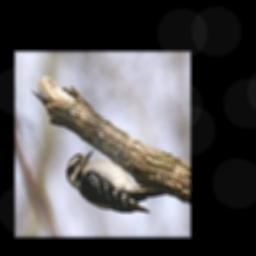Woodpecker: (60, 147, 168, 219)
